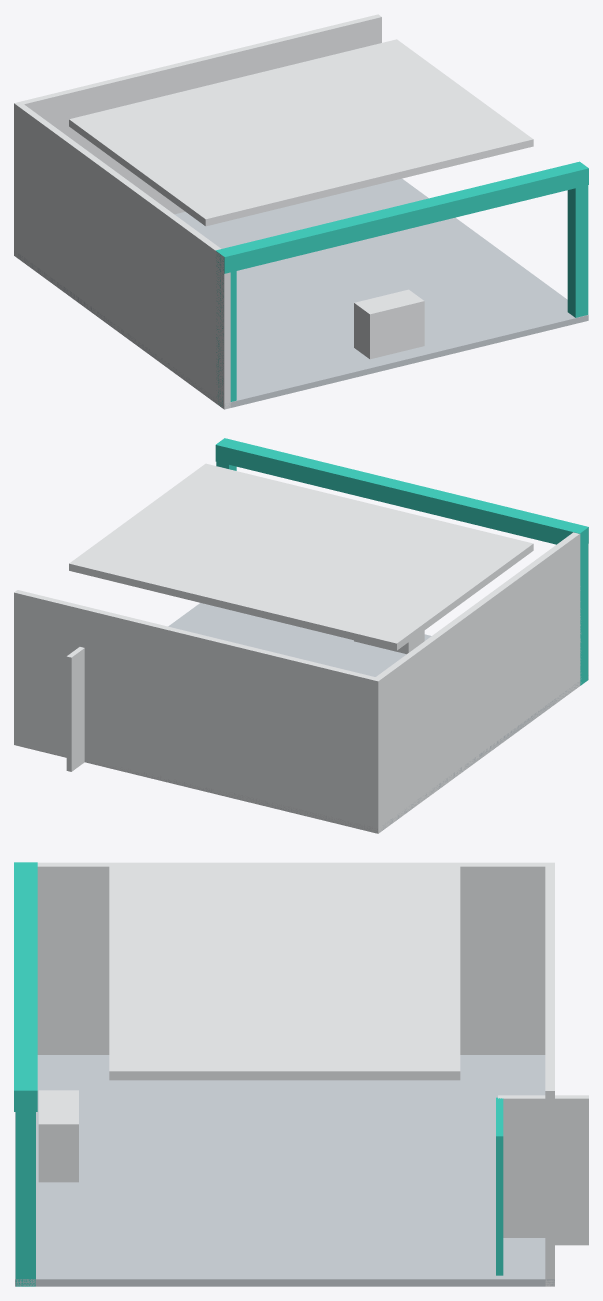
3 renders of one model, top to bottom at view 1: azimuth 30°, elevation 25°; view 2: azimuth 150°, elevation 25°; view 3: azimuth 270°, elevation 25°, orthographic. The views are drawn at different scales.
Visible parts, largest first — view 1: Exhibition Booth Concept; view 2: Exhibition Booth Concept; view 3: Exhibition Booth Concept.
Part boxes in pixels (left/top/right/bottom): Exhibition Booth Concept: left=14, top=14, right=588, bottom=409; Exhibition Booth Concept: left=14, top=438, right=588, bottom=833; Exhibition Booth Concept: left=14, top=862, right=588, bottom=1286.
Size of the model in its own units: 8 by 3.34 by 8.52.
